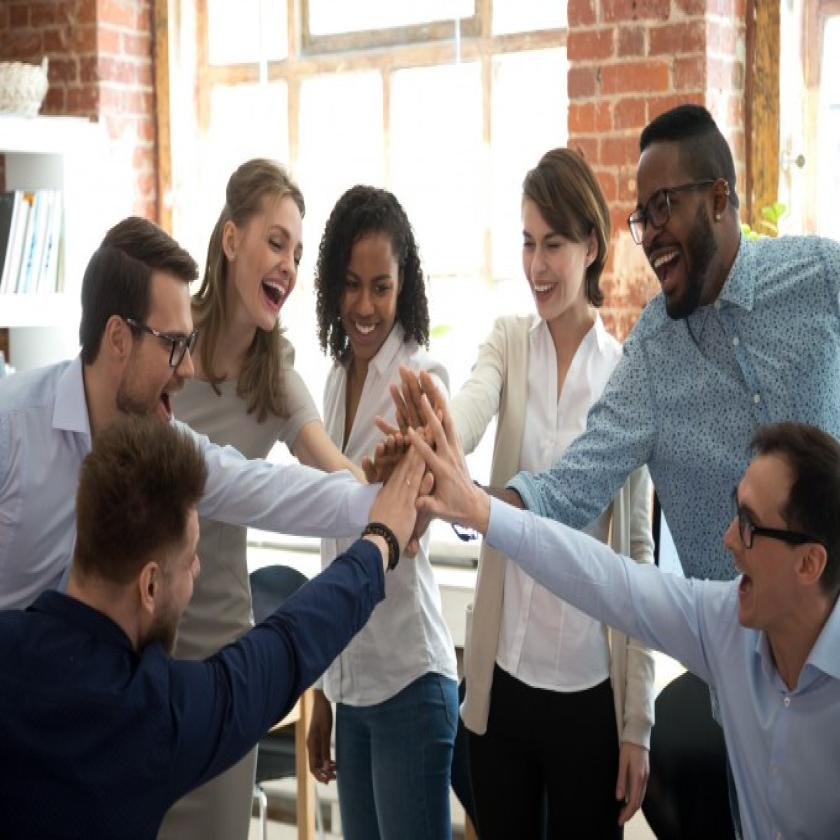Sin_casco: (82, 420, 205, 665), (727, 416, 840, 662), (82, 214, 202, 429), (622, 101, 736, 324), (513, 137, 605, 325), (221, 156, 309, 342), (327, 185, 414, 366)
